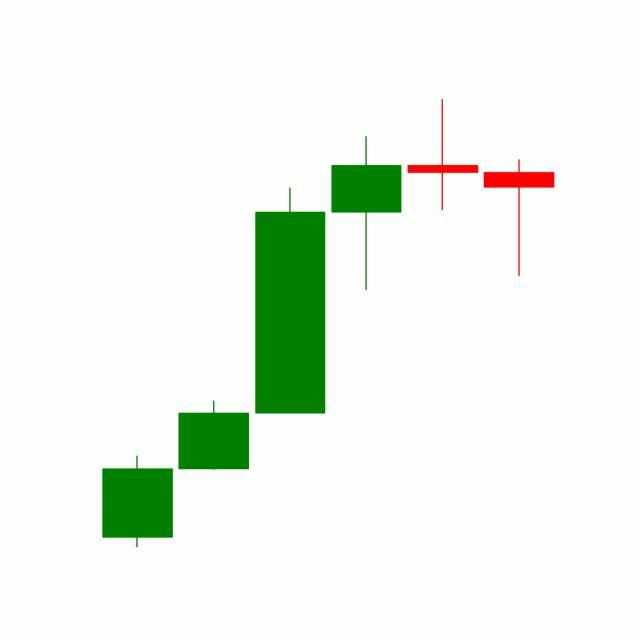Spinning Top: (404, 98, 482, 212)
